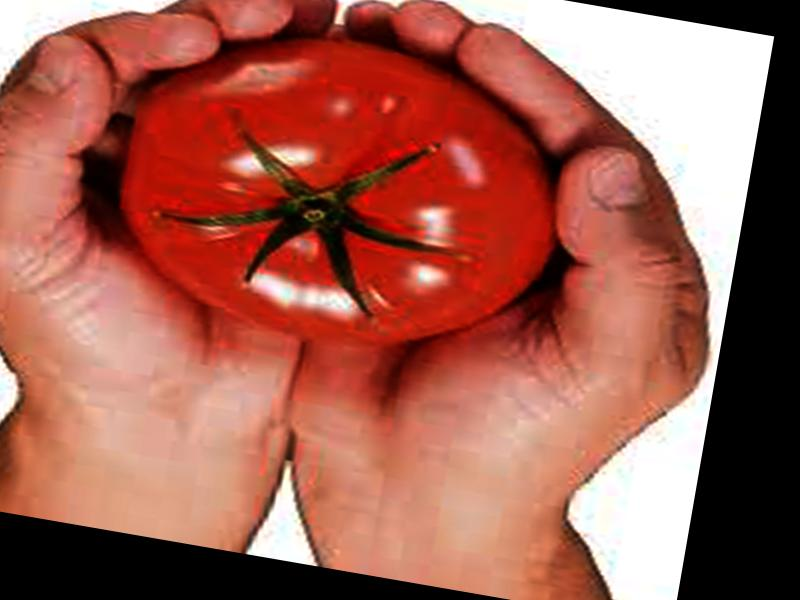Tomato: (96, 8, 583, 373)
